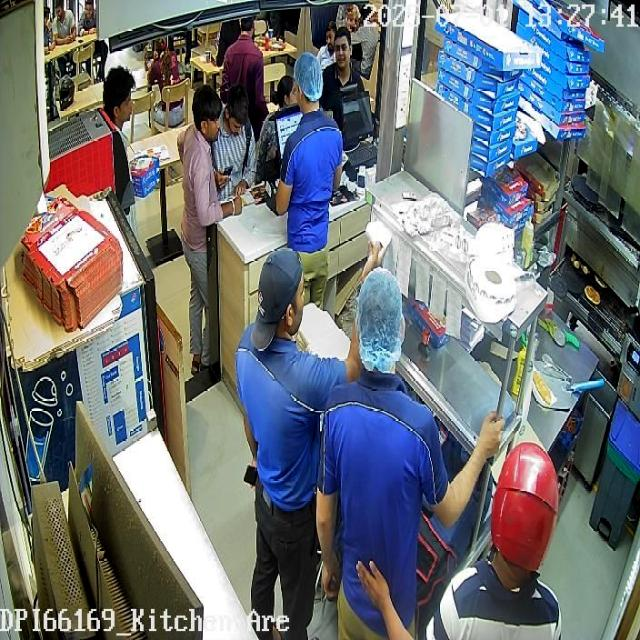helmet: (489, 443, 561, 572)
